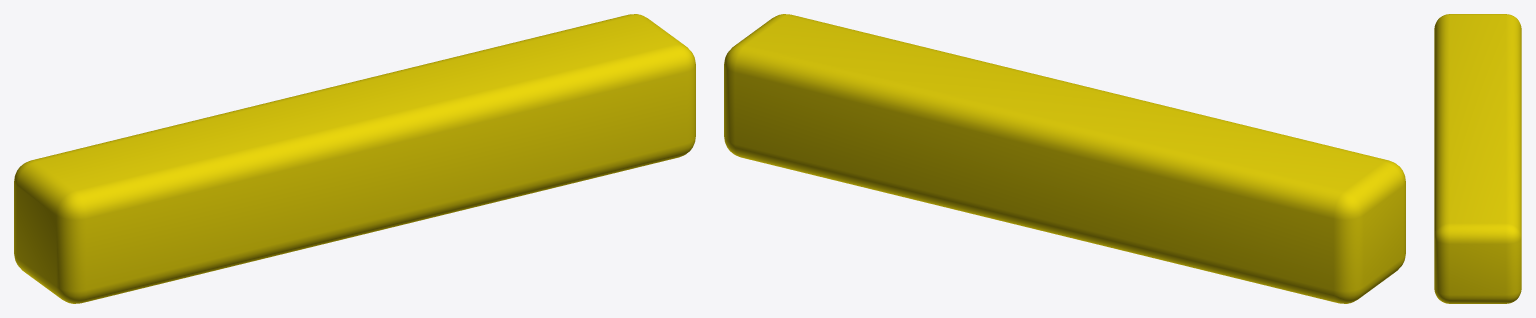
3 renders of one model, left to right at view 1: azimuth 30°, elevation 25°; view 2: azimuth 150°, elevation 25°; view 3: azimuth 270°, elevation 25°, orthographic. The views are drawn at different scales.
Visible parts, largest first — view 1: 6; view 2: 6; view 3: 6.
Part boxes in pixels (<box>): 6: <box>14,14,695,303</box>; 6: <box>724,14,1405,303</box>; 6: <box>1434,14,1521,303</box>.
Bounding box in the file's own units: 598 × 100 × 100.
